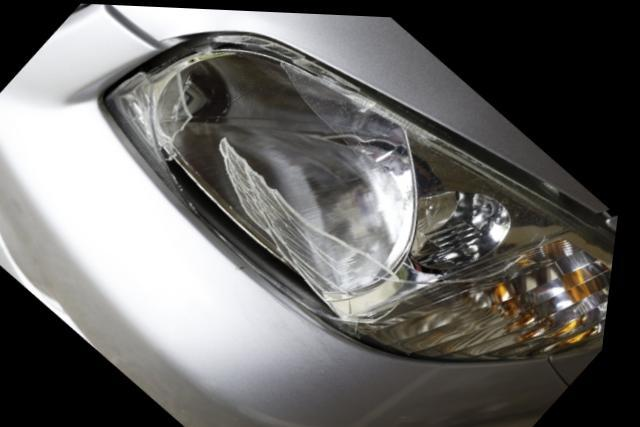lamp broken: (108, 30, 620, 364)
